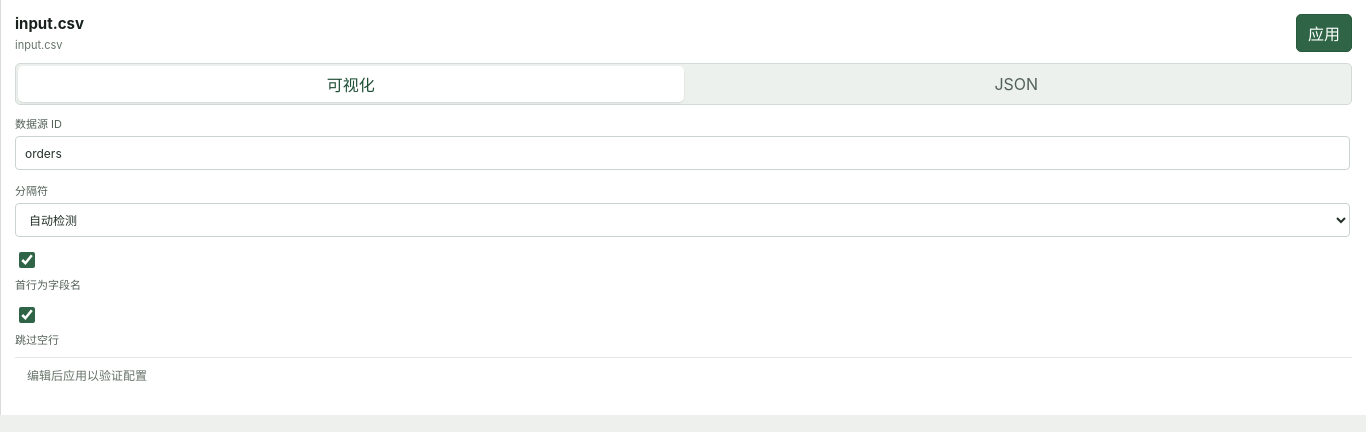
Scenario: NodeConfigPanel › applies a valid input.csv configuration
This screenshot has width=1366, height=432.
Click the button "应用".
click(1324, 33)  # box [1296,14,1352,52]
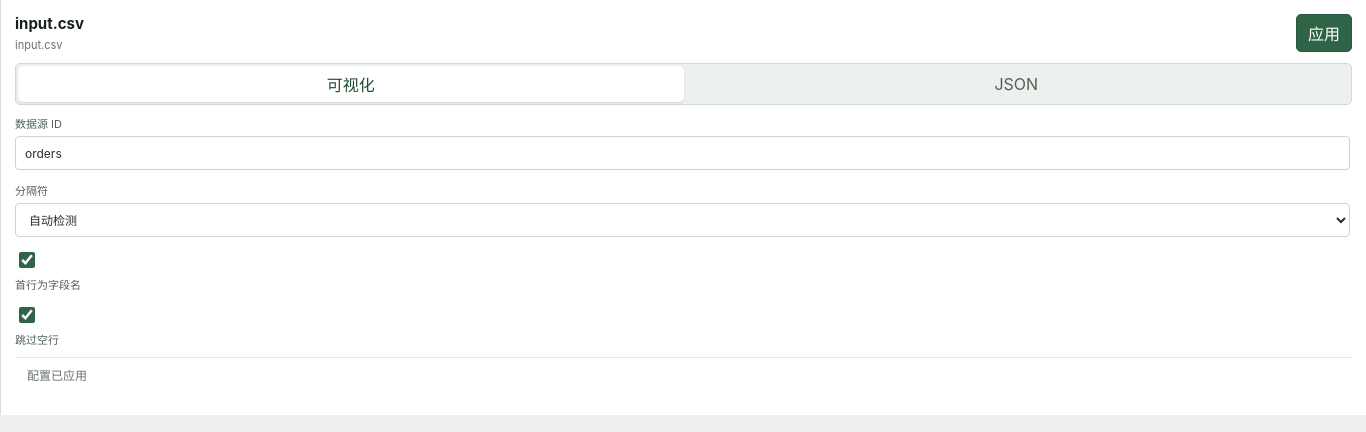
Result: the message reads "配置已应用" at [27,368,87,383]
